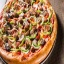pizza: (1, 1, 59, 63)
